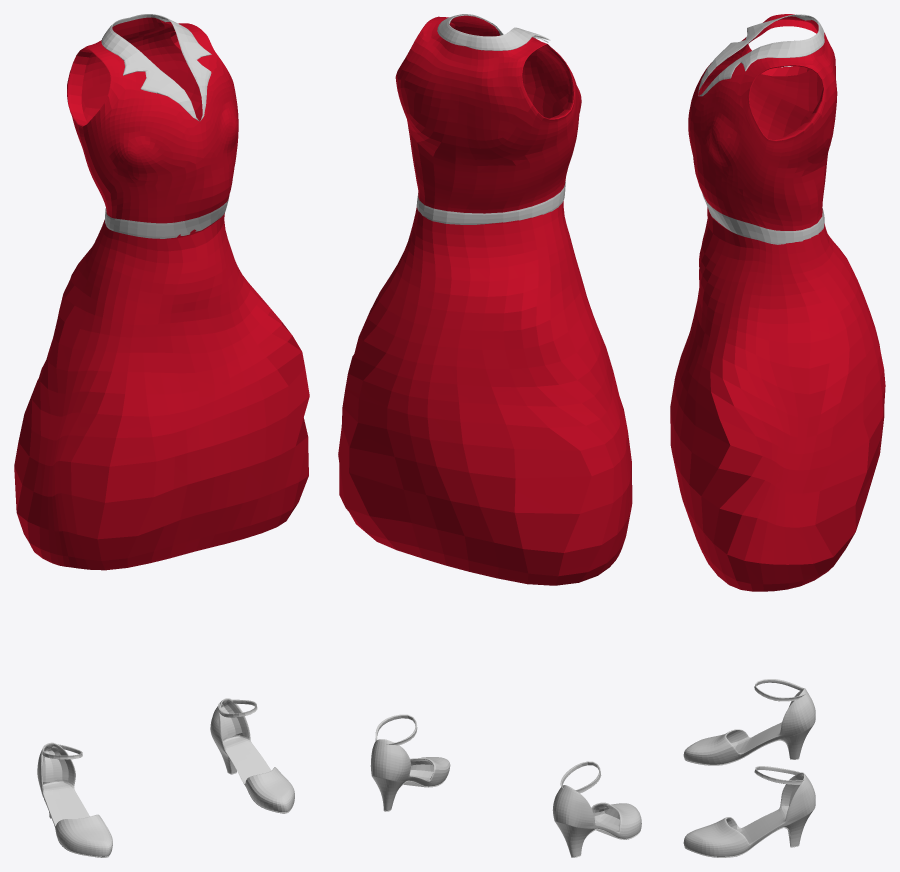
File: nvquntao4.obj
3 views of the same model, side by side, from view 1: azimuth 30°, elevation 25°; view 2: azimuth 150°, elevation 25°; view 3: azimuth 270°, elevation 25° (orthographic). The views are drawn at different scales.
Visible parts, largest first — view 1: nvquntao2; view 2: nvquntao2; view 3: nvquntao2.
Part boxes in pixels (x1,y1,x2,y2): nvquntao2: (14, 14, 309, 857); nvquntao2: (338, 14, 641, 857); nvquntao2: (670, 14, 885, 857).
Size of the model in its own units: 1.03 by 2.86 by 0.7168.
